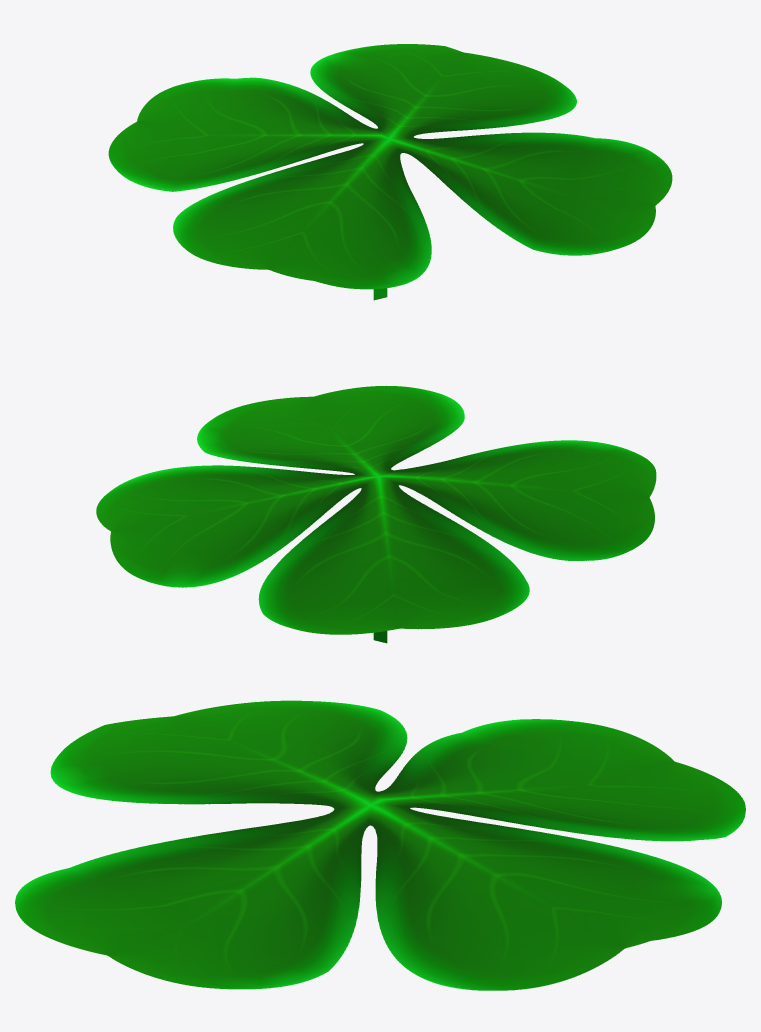
Rendered from Clower.fbx.
3 renders of one model, top to bottom at view 1: azimuth 30°, elevation 25°; view 2: azimuth 150°, elevation 25°; view 3: azimuth 270°, elevation 25°, orthographic. The views are drawn at different scales.
Parts seen in each view (by area): view 1: Plane001; view 2: Plane001; view 3: Plane001.
Part boxes in pixels (<box>): Plane001: <box>108,44,672,300</box>; Plane001: <box>96,385,656,643</box>; Plane001: <box>15,700,745,990</box>.
Size of the model in its own units: 52.88 by 18.12 by 56.27.
2 materials, 1 textured.
